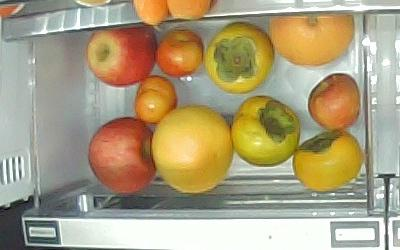apple: (86, 117, 154, 195), (87, 25, 158, 88)
grapefruit: (152, 104, 233, 196), (267, 12, 354, 67)
persimmon: (230, 96, 301, 168), (205, 21, 275, 94), (291, 129, 363, 192)
prune: (307, 73, 361, 132), (152, 28, 205, 79), (133, 76, 177, 122)
